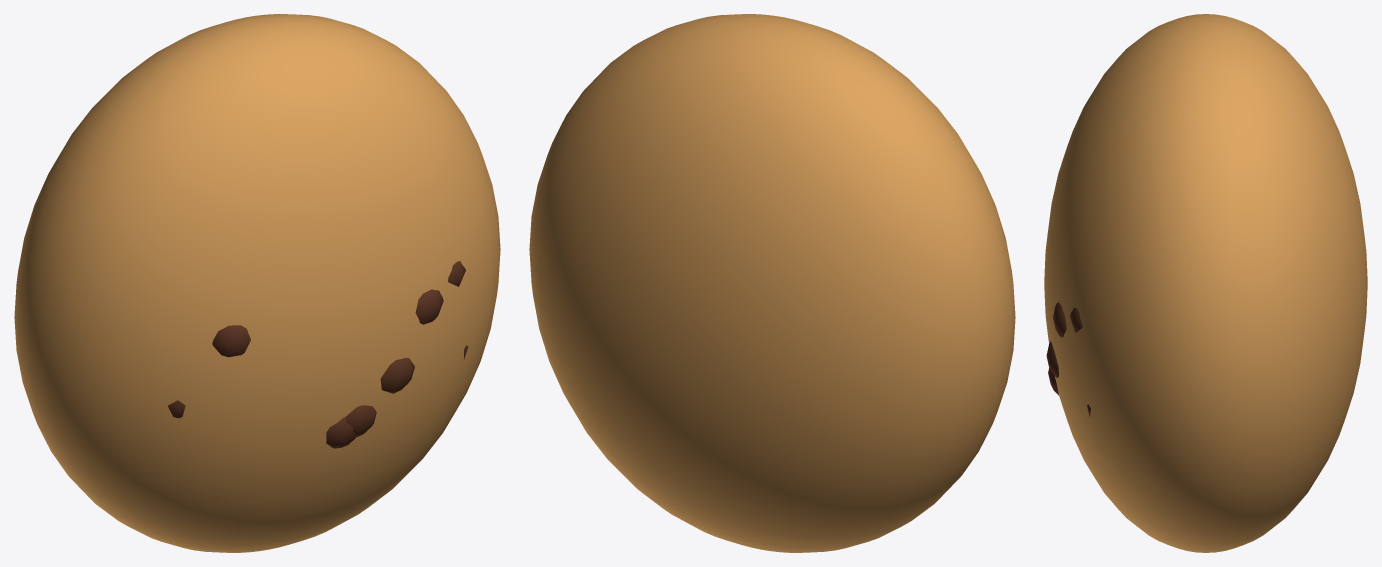
File: tb_mat_kjeks.glb
3 views of the same model, side by side, from view 1: azimuth 30°, elevation 25°; view 2: azimuth 150°, elevation 25°; view 3: azimuth 270°, elevation 25° (orthographic). The views are drawn at different scales.
Parts seen in each view (by area): view 1: matkropp; view 2: matkropp; view 3: matkropp.
Part boxes in pixels (bbox=[...]): matkropp: bbox=[14, 14, 500, 552]; matkropp: bbox=[529, 14, 1015, 552]; matkropp: bbox=[1044, 14, 1367, 552].
Size of the model in its own units: 0.8 by 0.86 by 0.51.
